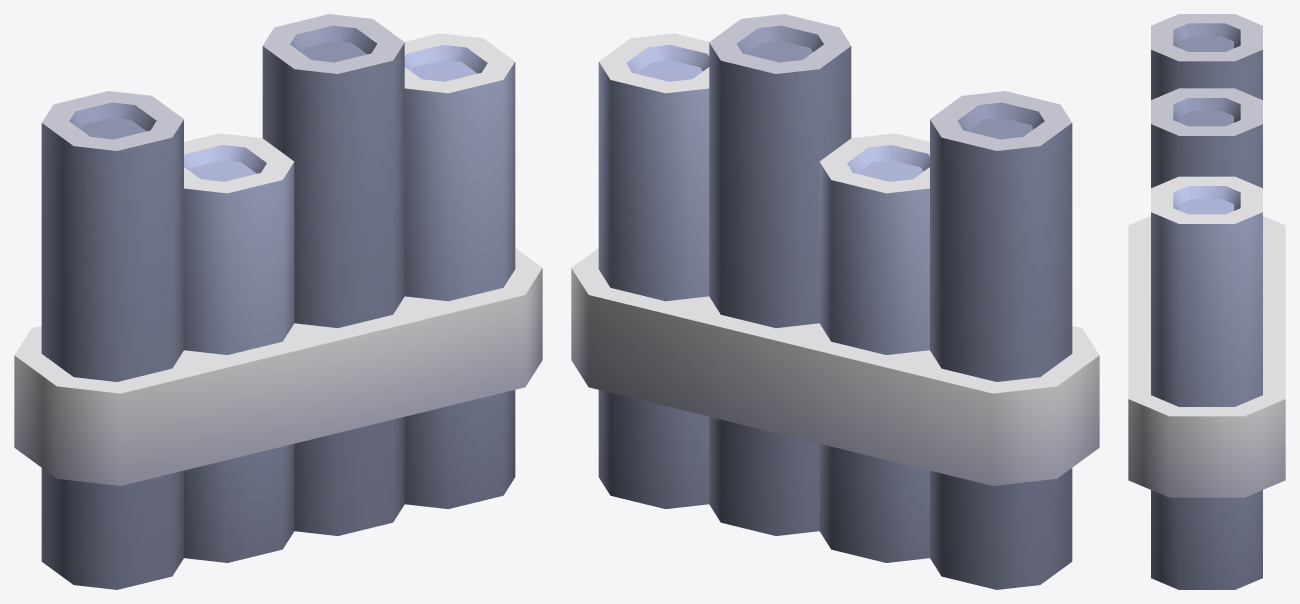
The model's file is poles.glb.
3 renders of one model, left to right at view 1: azimuth 30°, elevation 25°; view 2: azimuth 150°, elevation 25°; view 3: azimuth 270°, elevation 25°, orthographic. The views are drawn at different scales.
Parts seen in each view (by area): view 1: poles; view 2: poles; view 3: poles.
Part boxes in pixels (bbox=[...]): poles: bbox=[14, 14, 542, 589]; poles: bbox=[571, 14, 1099, 589]; poles: bbox=[1128, 14, 1285, 589].
Size of the model in its own units: 1.1 by 1 by 0.35.
